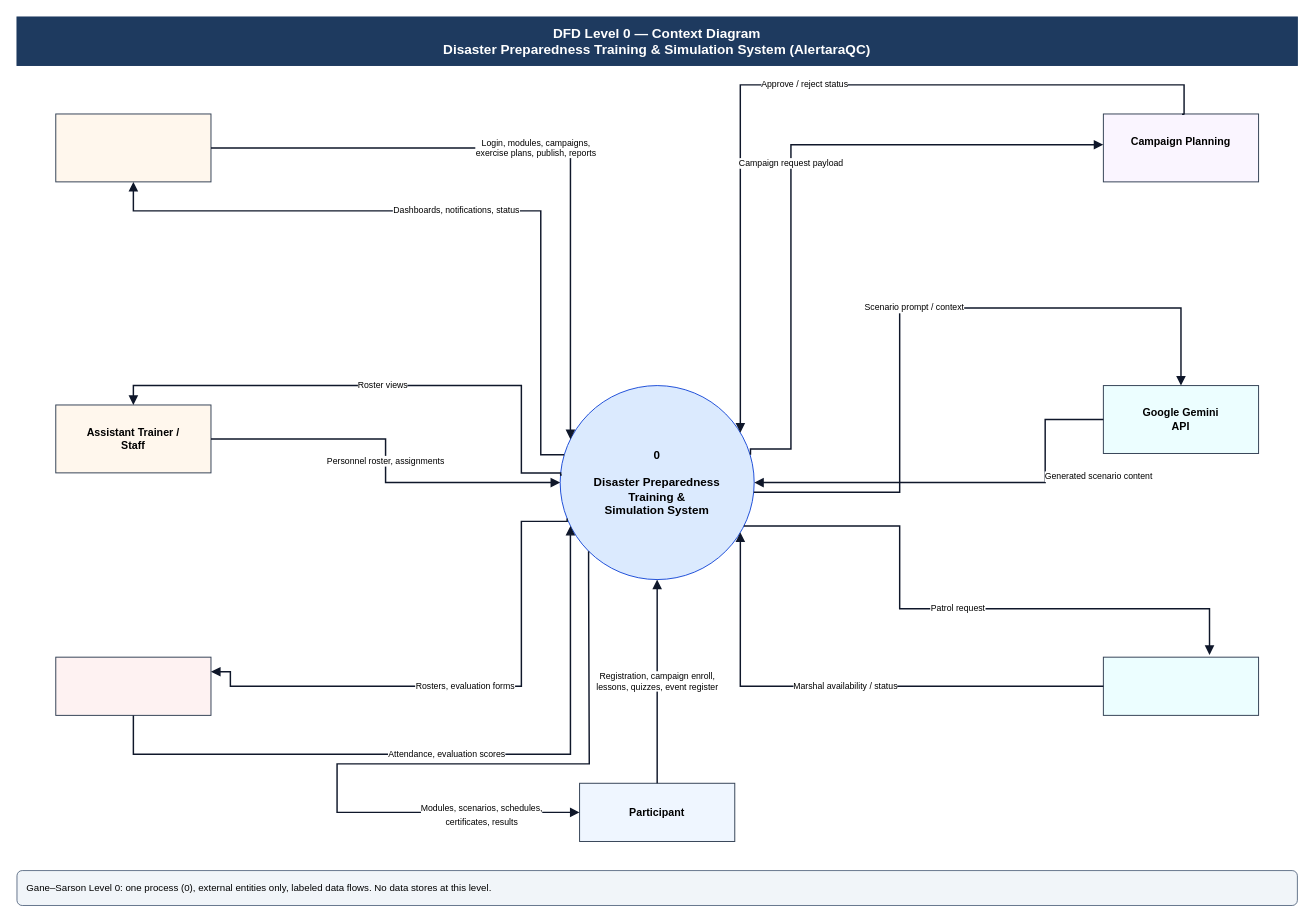
This 1314x922 diagram has some shape labels left out. The shapes that lost their labels are listed below. From the top down, each one's centre as x and y in pixels, then its label:
At (x=133, y=147): "LGU Admin / Lead Trainer".
At (x=133, y=685): "Evaluator".
At (x=1180, y=685): "CPSQC Patrol System".
